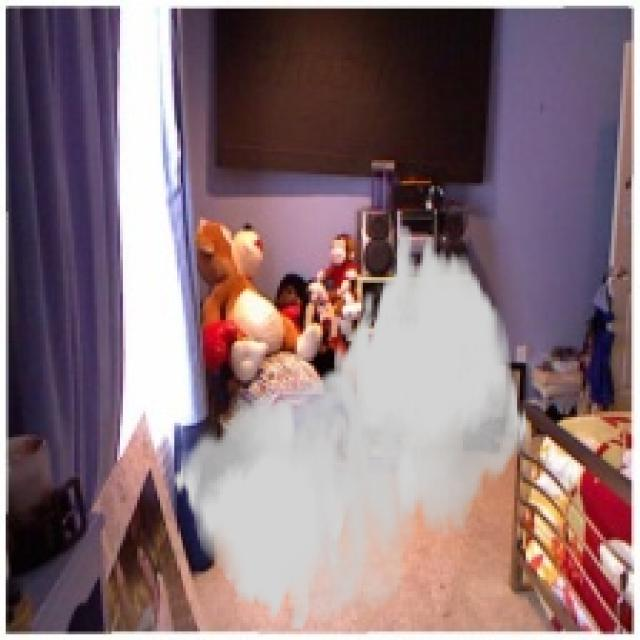smoke: (172, 226, 528, 631)
